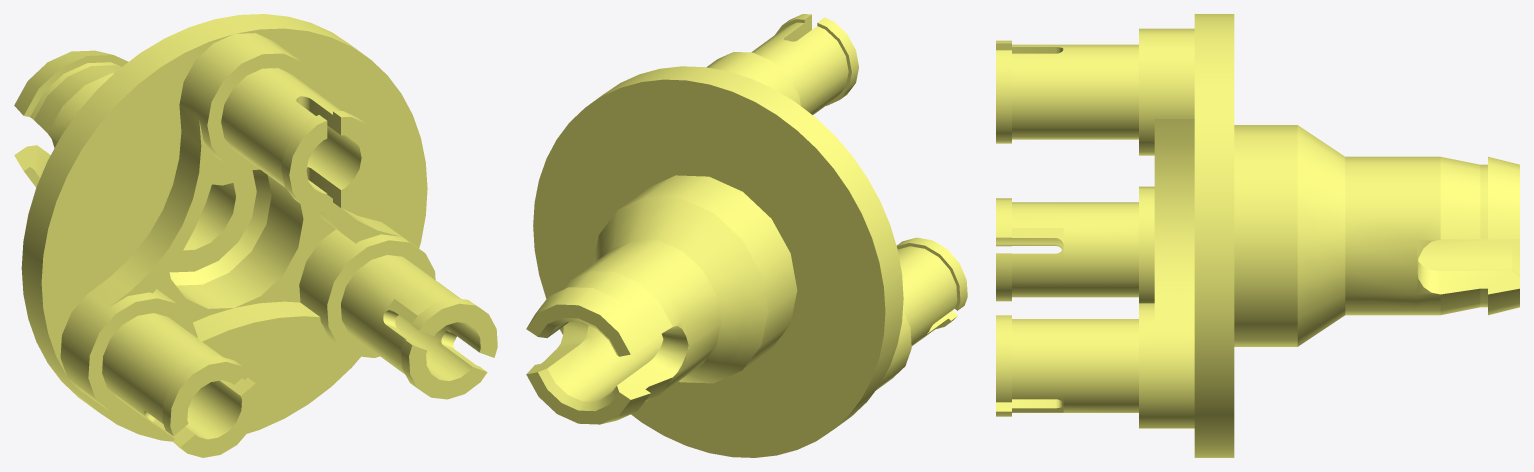
The picture shows the model from 3 angles, left to right: view 1: azimuth 30°, elevation 25°; view 2: azimuth 150°, elevation 25°; view 3: azimuth 270°, elevation 25°; orthographic projection. The views are drawn at different scales.
Parts seen in each view (by area): view 1: 92909.dat; view 2: 92909.dat; view 3: 92909.dat.
Boxes of the visible parts, box(x1,y1,x2,y2) form: 92909.dat: box(14, 14, 497, 457); 92909.dat: box(526, 14, 967, 457); 92909.dat: box(996, 14, 1519, 457).
Size of the model in its own units: 0.0224 by 0.0224 by 0.0264.
